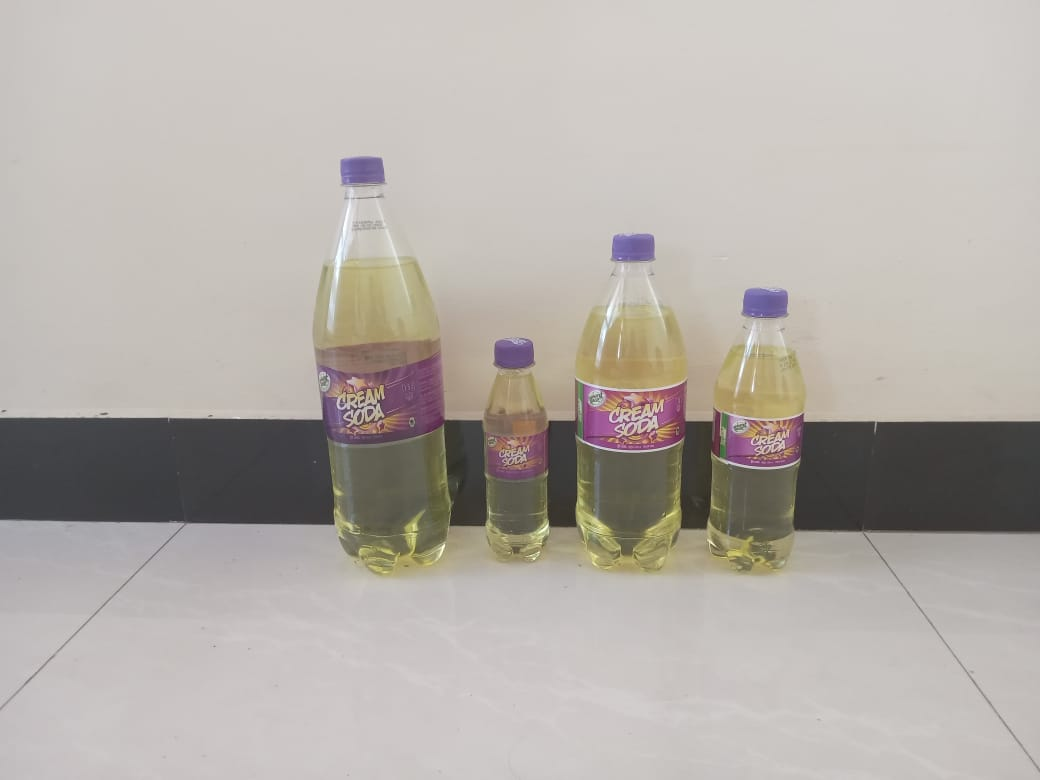L: (310, 153, 452, 573)
M: (570, 230, 687, 575)
S: (709, 281, 807, 579)
Xs: (479, 337, 557, 565)
